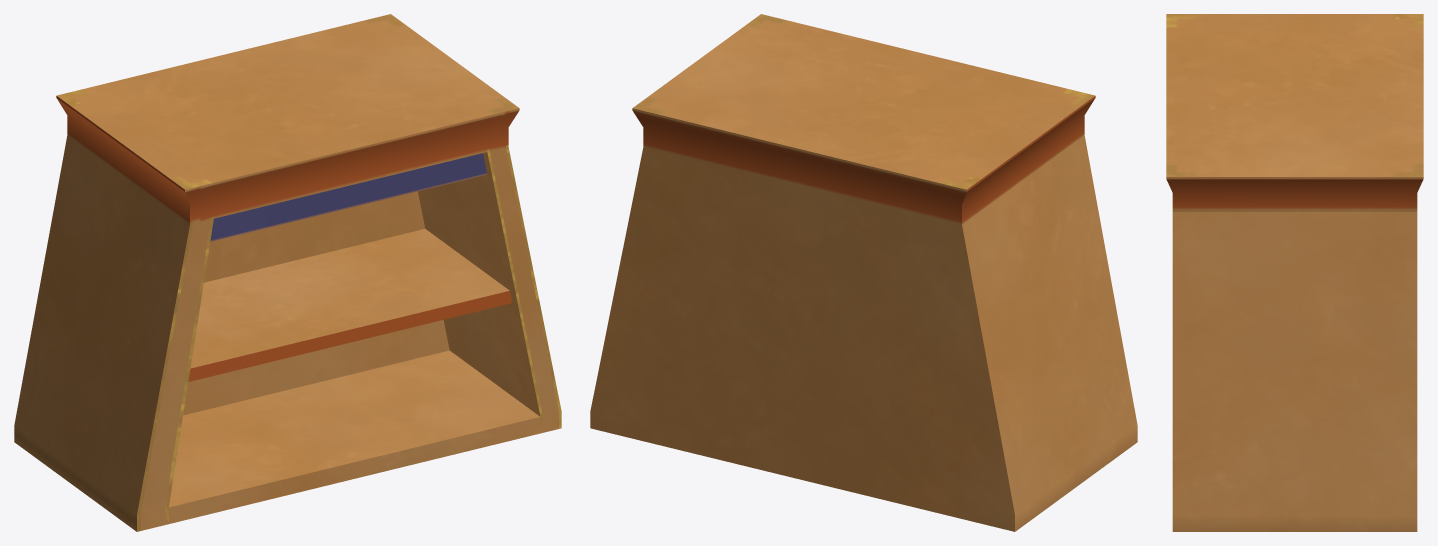
The model's file is SM_Env_Stand_C.fbx.
3 renders of one model, left to right at view 1: azimuth 30°, elevation 25°; view 2: azimuth 150°, elevation 25°; view 3: azimuth 270°, elevation 25°, orthographic.
Visible parts, largest first — view 1: Stand_C; view 2: Stand_C; view 3: Stand_C.
Boxes of the visible parts, left/top/right/bottom form: Stand_C: left=14, top=14, right=561, bottom=531; Stand_C: left=590, top=14, right=1137, bottom=531; Stand_C: left=1166, top=14, right=1423, bottom=531.
Bounding box in the file's own units: 200 × 150 × 105.
Materials: 1 (1 with a texture image).
